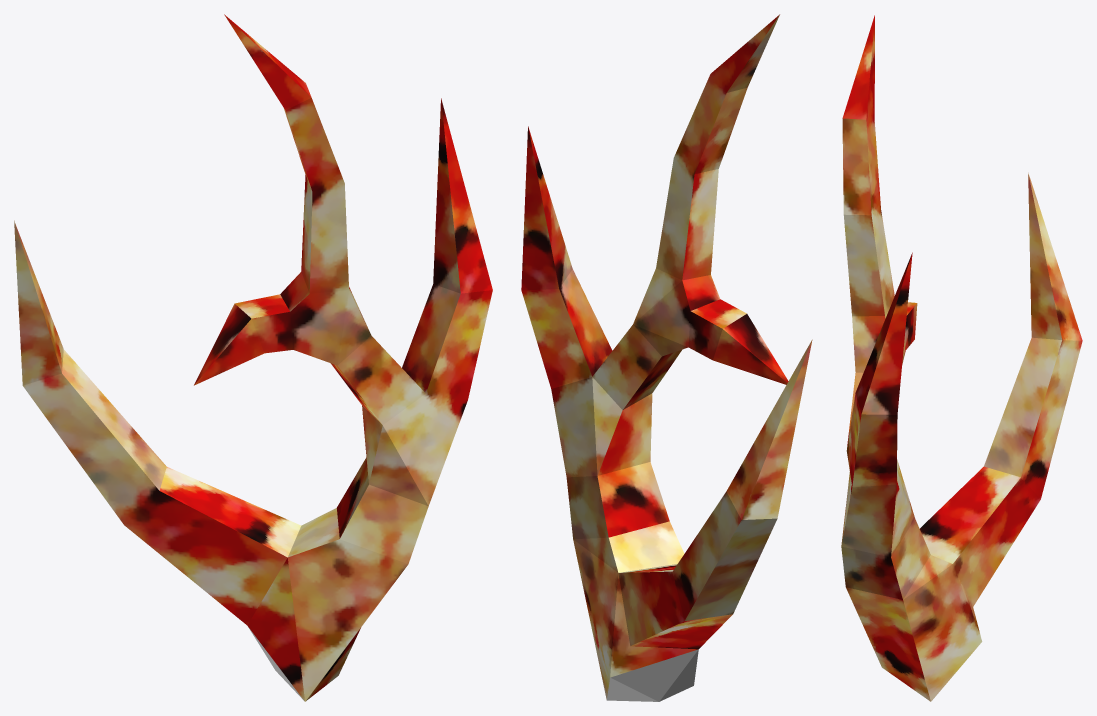
Rendered from LeftAntler4.fbx.
3 views of the same model, side by side, from view 1: azimuth 30°, elevation 25°; view 2: azimuth 150°, elevation 25°; view 3: azimuth 270°, elevation 25° (orthographic). The views are drawn at different scales.
Visible parts, largest first — view 1: BigLeftAntler4; view 2: BigLeftAntler4; view 3: BigLeftAntler4.
Boxes of the visible parts, x1,y1,x2,y2 form: BigLeftAntler4: [14, 14, 492, 701]; BigLeftAntler4: [521, 14, 812, 701]; BigLeftAntler4: [841, 15, 1082, 701].
Size of the model in its own units: 520 by 936 by 327.
